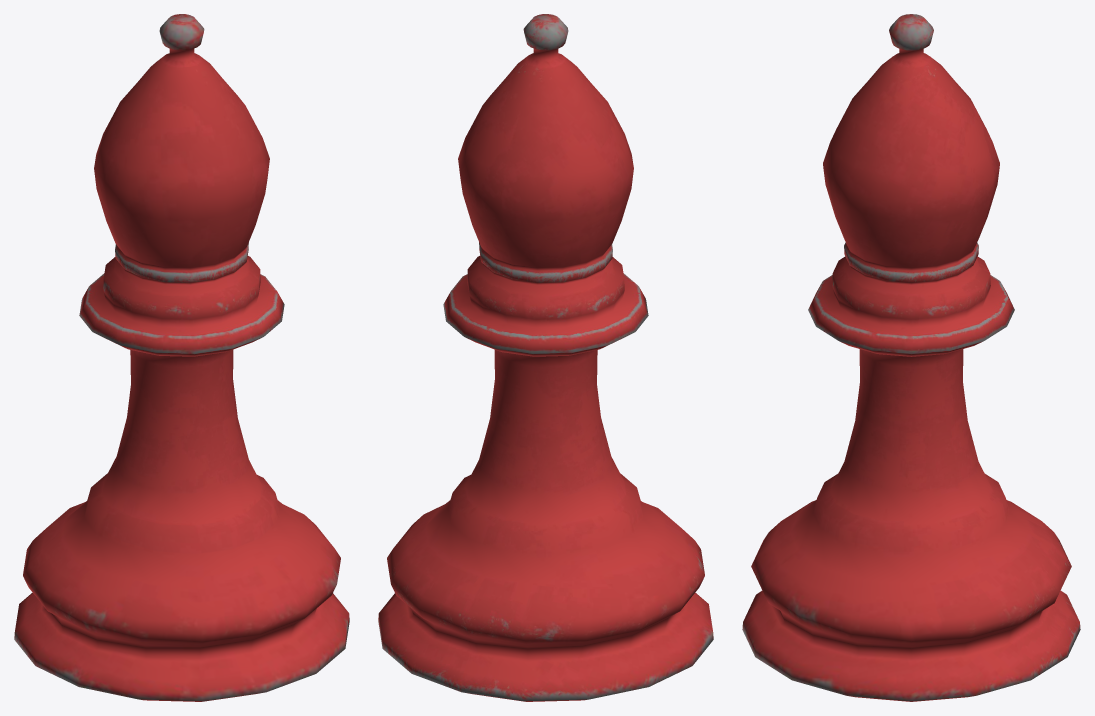
File: bishop.glb
The picture shows the model from 3 angles, left to right: view 1: azimuth 30°, elevation 25°; view 2: azimuth 150°, elevation 25°; view 3: azimuth 270°, elevation 25°; orthographic projection.
Visible parts, largest first — view 1: bishop.b.001; view 2: bishop.b.001; view 3: bishop.b.001.
Part boxes in pixels (x1=…): bishop.b.001: x1=14, y1=14, x2=349, y2=701; bishop.b.001: x1=378, y1=14, x2=713, y2=701; bishop.b.001: x1=742, y1=14, x2=1080, y2=701.
Bounding box in the file's own units: 1.24 × 2.54 × 1.24.
1 material, 1 textured.
